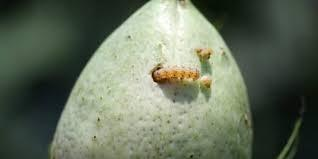Insects: (152, 62, 202, 86)
